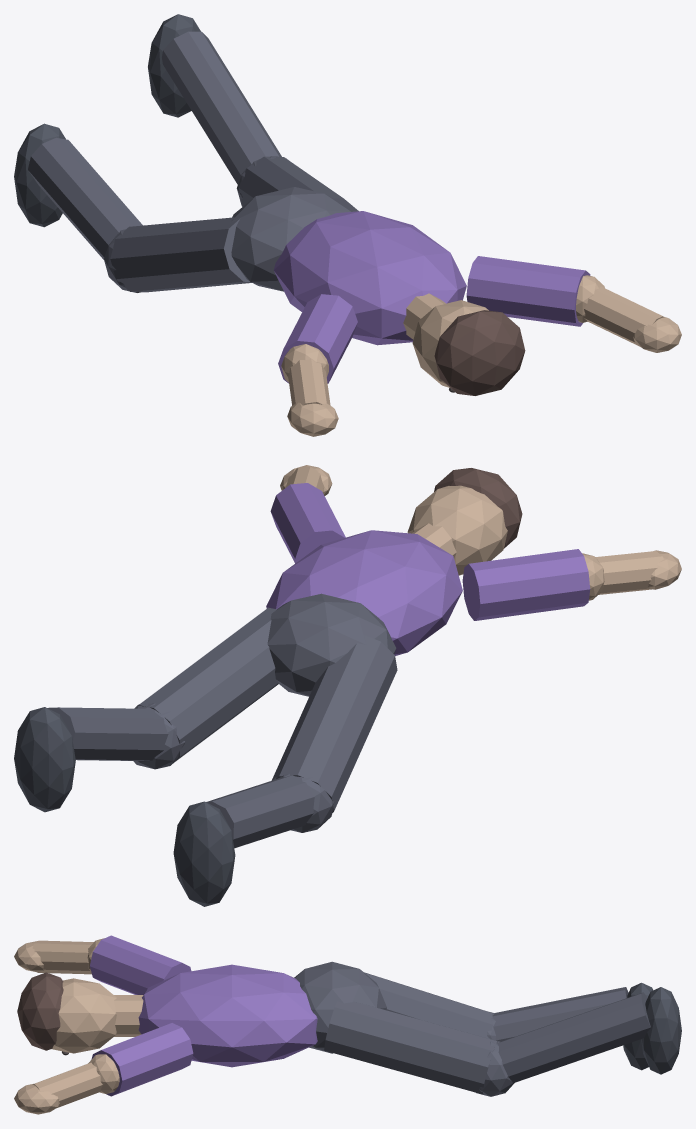
3 views of the same model, one above another, from view 1: azimuth 30°, elevation 25°; view 2: azimuth 150°, elevation 25°; view 3: azimuth 270°, elevation 25° (orthographic). The views are drawn at different scales.
Parts seen in each view (by area): view 1: world; view 2: world; view 3: world.
Part boxes in pixels (x1,y1,x2,y2): world: [14, 14, 681, 436]; world: [14, 465, 681, 906]; world: [14, 935, 681, 1114].
Bounding box in the file's own units: 1.17 × 0.4905 × 2.07.
